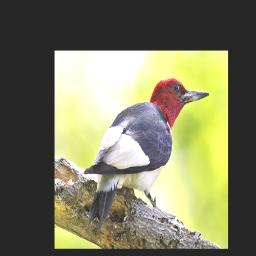Woodpecker: (84, 79, 208, 231)
